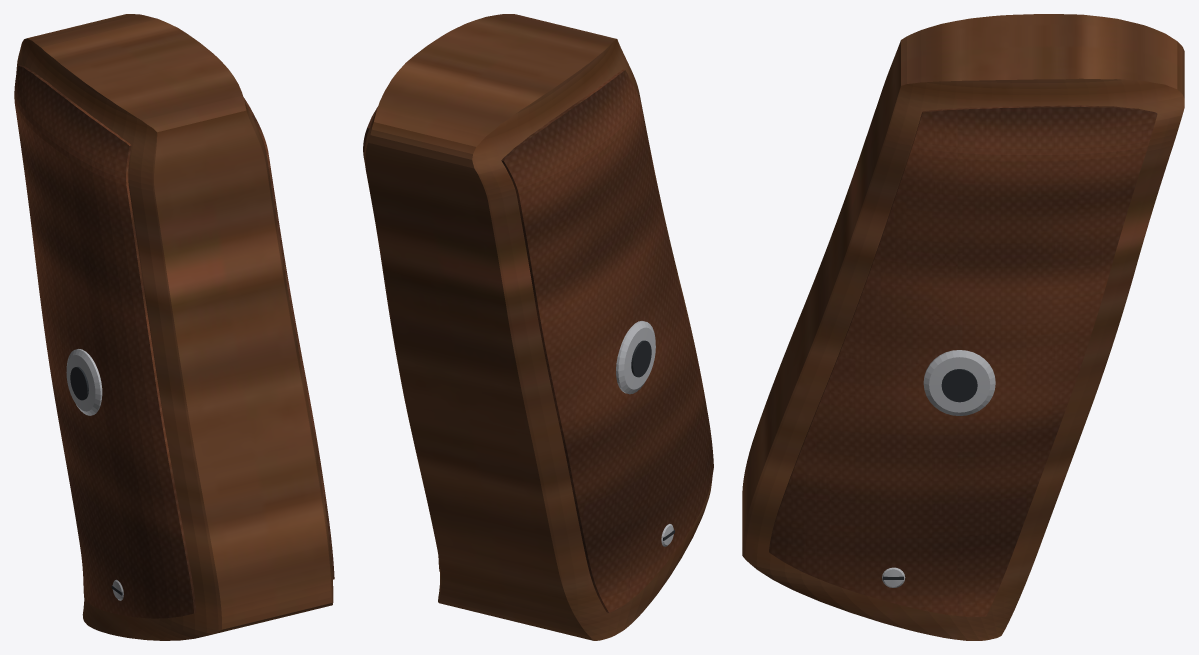
The model's file is talas_guardia_madeira.glb.
3 views of the same model, side by side, from view 1: azimuth 30°, elevation 25°; view 2: azimuth 150°, elevation 25°; view 3: azimuth 270°, elevation 25° (orthographic). The views are drawn at different scales.
Visible parts, largest first — view 1: talas_guardia_madeira_nogueira, talas_guardia_madeira_madeira_punho, talas_guardia_madeira_aco_inox, talas_guardia_madeira_aco_oxidado; view 2: talas_guardia_madeira_nogueira, talas_guardia_madeira_madeira_punho, talas_guardia_madeira_aco_inox, talas_guardia_madeira_aco_oxidado; view 3: talas_guardia_madeira_madeira_punho, talas_guardia_madeira_nogueira, talas_guardia_madeira_aco_inox, talas_guardia_madeira_aco_oxidado.
Part boxes in pixels (<box>): talas_guardia_madeira_nogueira: <box>16,14,333,640</box>; talas_guardia_madeira_madeira_punho: <box>14,65,334,618</box>; talas_guardia_madeira_aco_inox: <box>66,349,123,600</box>; talas_guardia_madeira_aco_oxidado: <box>70,367,122,595</box>; talas_guardia_madeira_nogueira: <box>364,14,712,640</box>; talas_guardia_madeira_madeira_punho: <box>363,69,713,612</box>; talas_guardia_madeira_aco_inox: <box>616,321,673,546</box>; talas_guardia_madeira_aco_oxidado: <box>631,340,674,540</box>; talas_guardia_madeira_madeira_punho: <box>769,105,1157,616</box>; talas_guardia_madeira_nogueira: <box>742,14,1184,640</box>; talas_guardia_madeira_aco_inox: <box>882,350,995,587</box>; talas_guardia_madeira_aco_oxidado: <box>883,369,977,579</box>.
Bounding box in the file's own units: 0.0355 × 0.0933 × 0.0675.
4 materials, 2 textured.
